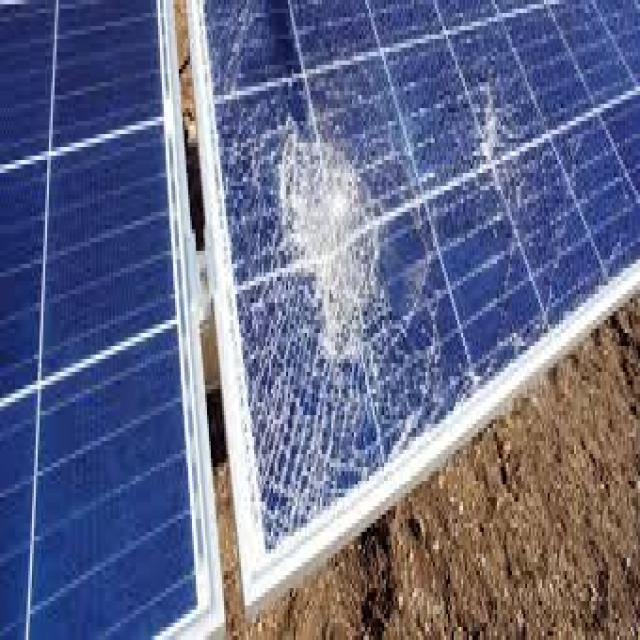faulty: (200, 0, 640, 564)
no faulty: (0, 0, 188, 640)
